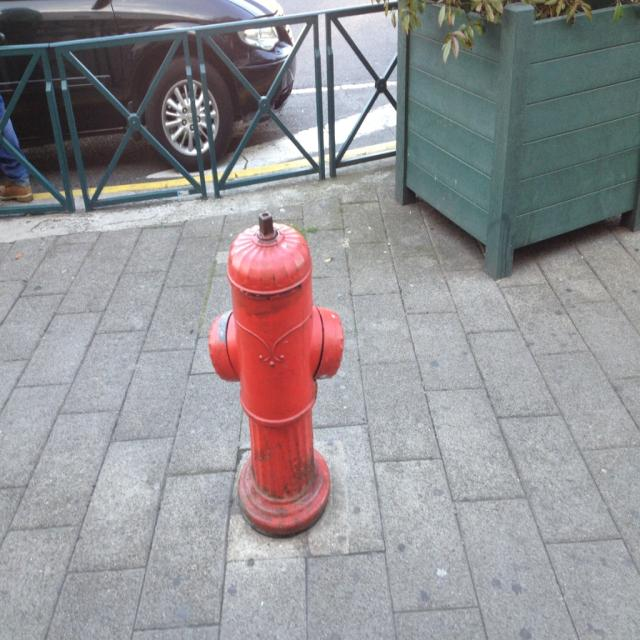fire_hydrant: (206, 210, 342, 534)
